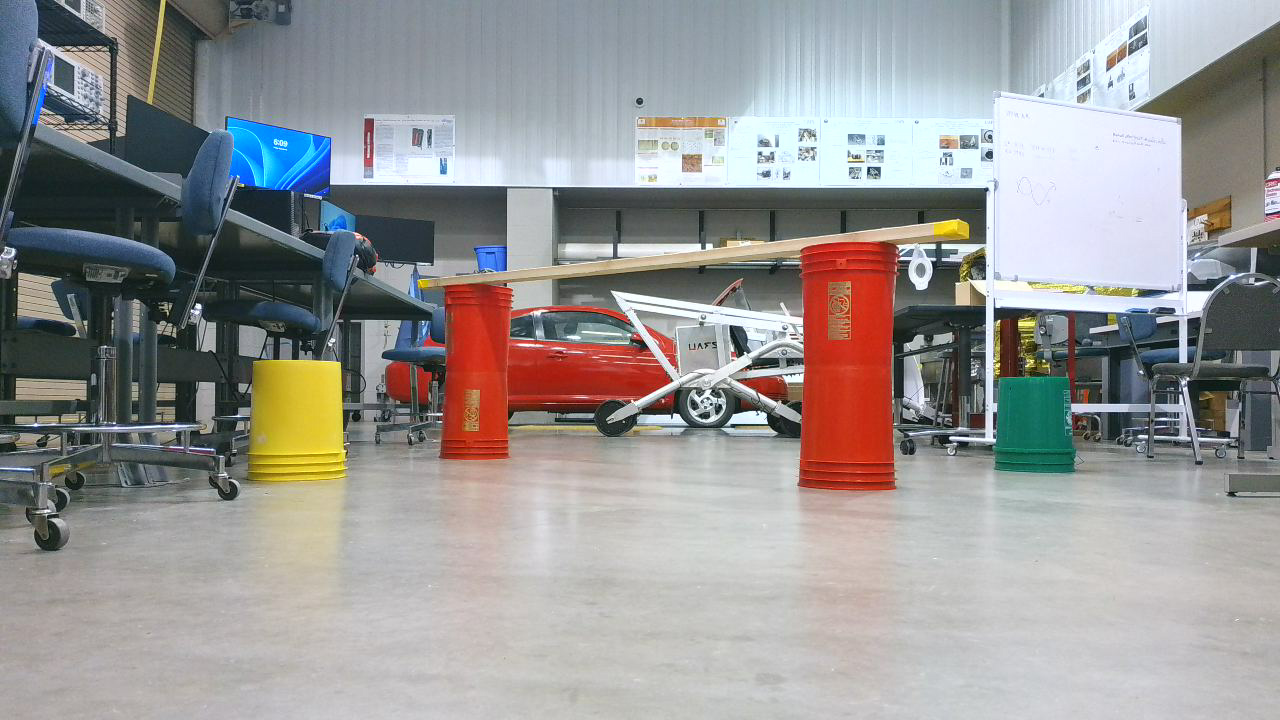green_bucket_barrier: (994, 375, 1084, 480)
red_bucket_arch: (435, 221, 938, 499)
yellow_bucket: (240, 357, 362, 492)
